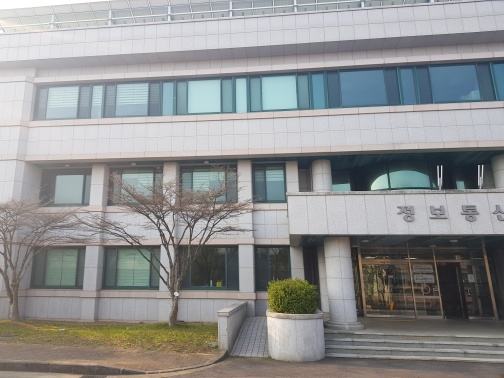Information Telecommunication Center: (4, 10, 496, 334), (346, 235, 496, 334), (388, 193, 488, 231)
